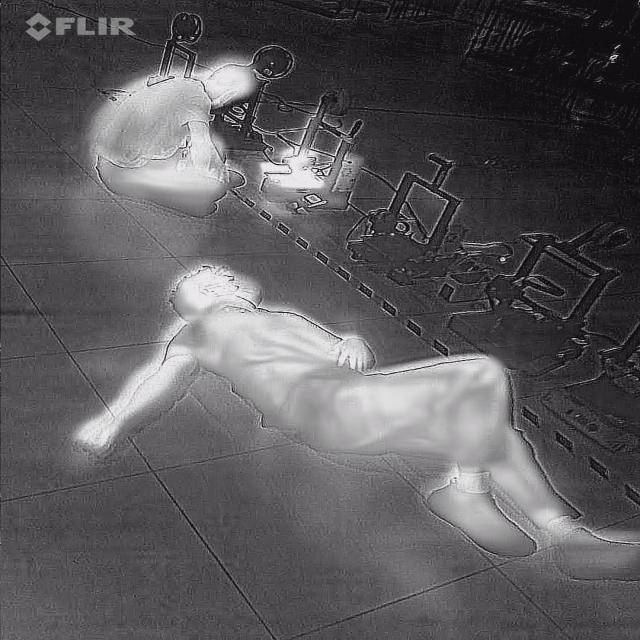Victim: (67, 258, 639, 590), (86, 57, 270, 218)
